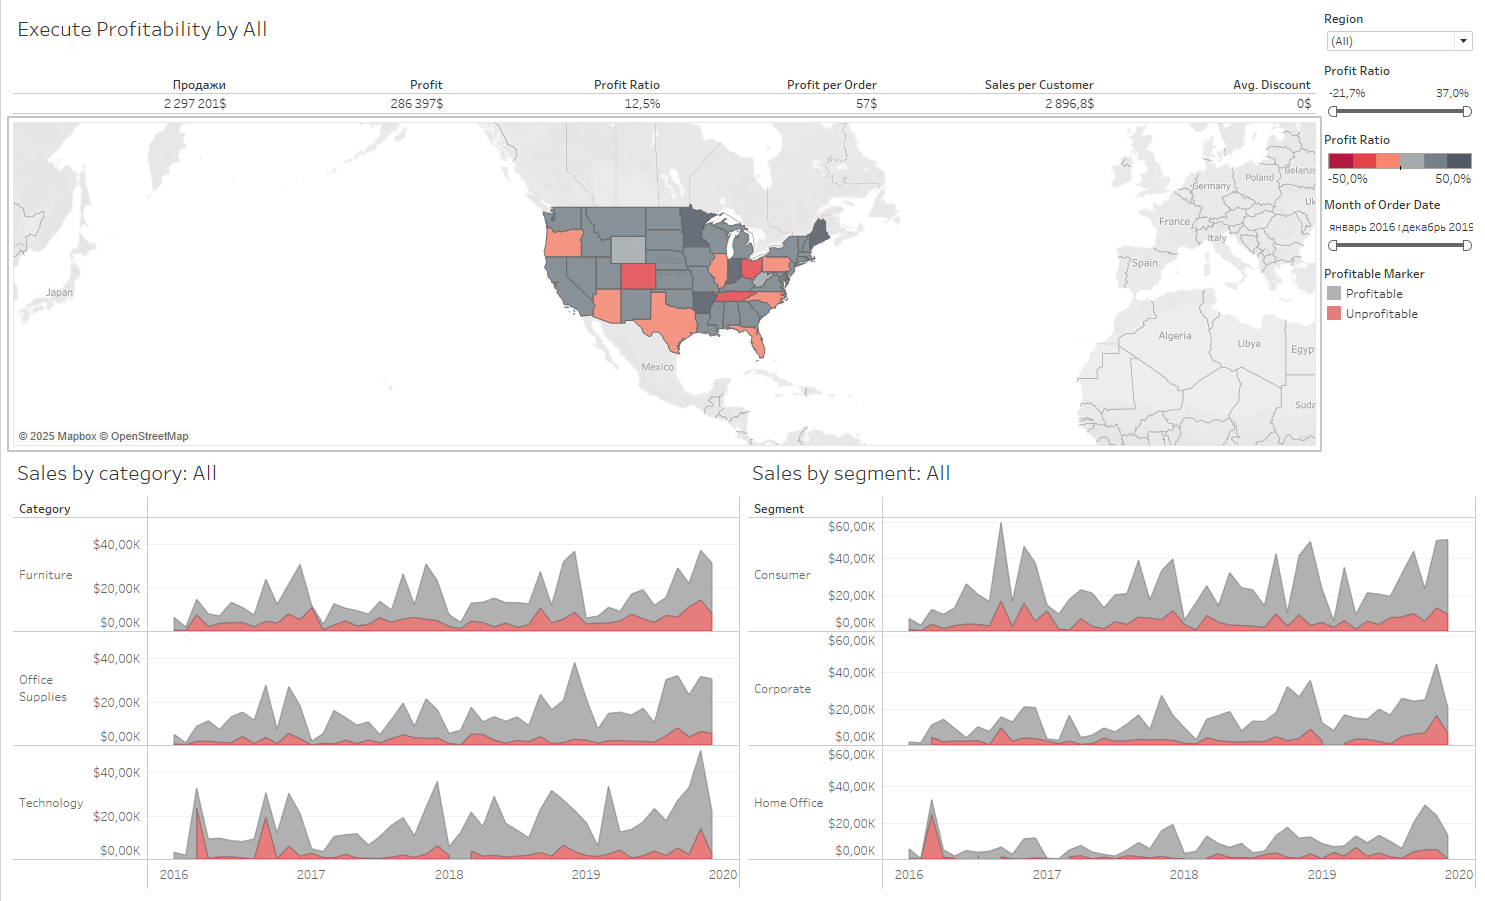

The dashboard page shown, as its layout file describes it:
{"tool":"tableau","page":{"name":"Executive Overview","canvas":[1000,1000],"units":"permille","ordinal":0},"visuals":[{"type":"worksheet","title":"KPI","mark":"Automatic","box":[5.4,8.8,881.6,123.9]},{"type":"filter","title":"profit by Ratio Geography","param":"[federated.0n1ogn31sv5aa011ewm2008q3gva].[none:Region:nk]","box":[887,8.8,107.6,57.5]},{"type":"filter","title":"profit by Ratio Geography","param":"[federated.0n1ogn31sv5aa011ewm2008q3gva].[usr:Calculation_267119792821047296:qk]","box":[887,66.4,107.6,76.3]},{"type":"worksheet","title":"profit by Ratio Geography","mark":"Automatic","box":[5.4,132.7,881.6,367.3]},{"type":"legend","title":"profit by Ratio Geography","param":"[federated.0n1ogn31sv5aa011ewm2008q3gva].[usr:Calculation_267119792821047296:qk]","box":[887,142.7,107.6,71.9]},{"type":"filter","title":"Sales by segment","param":"[federated.0n1ogn31sv5aa011ewm2008q3gva].[tmn:Order Date:qk]","box":[887,214.6,107.6,76.3]},{"type":"legend","title":"Sales by segment","param":"[federated.0n1ogn31sv5aa011ewm2008q3gva].[none:Calculation_267119792828051457:nk","box":[887,290.9,107.6,73]},{"type":"worksheet","title":"Sales by category","mark":"Area","rows":["Category","Sales"],"cols":["Order Date"],"box":[5.4,500,494.6,491.2]},{"type":"worksheet","title":"Sales by segment","mark":"Area","rows":["Segment","Sales"],"cols":["Order Date"],"box":[500,500,494.6,491.2]}]}

Visuals, with their boxes on the dashboard's canvas, which has no fixed pixel size, in thousandths of its width and height (x1, y1, x2, y2). These are canvas units, not pixel positions in the 1485x901 screenshot, which may show the page scaled, cropped or inside an application window:
"KPI" worksheet: (5,9,887,133)
"profit by Ratio Geography" filter: (887,9,995,66)
"profit by Ratio Geography" filter: (887,66,995,143)
"profit by Ratio Geography" worksheet: (5,133,887,500)
"profit by Ratio Geography" legend: (887,143,995,215)
"Sales by segment" filter: (887,215,995,291)
"Sales by segment" legend: (887,291,995,364)
"Sales by category" worksheet (Area marks): (5,500,500,991)
"Sales by segment" worksheet (Area marks): (500,500,995,991)
